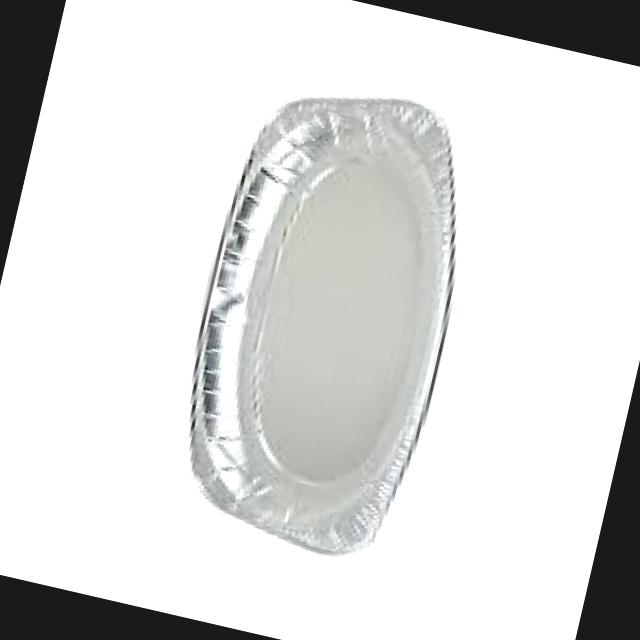metal: (191, 97, 453, 553)
